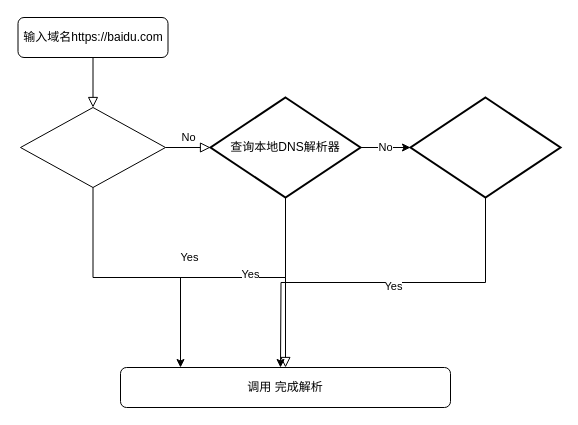
This 578x425 diagram has some shape labels left out. Here are the shapes that lost their labels. From the top down, the box of each, then its label:
(20, 106, 166, 188): 查询本地HOSTS文件
(409, 96, 561, 198): 查询本地DNS服务器
